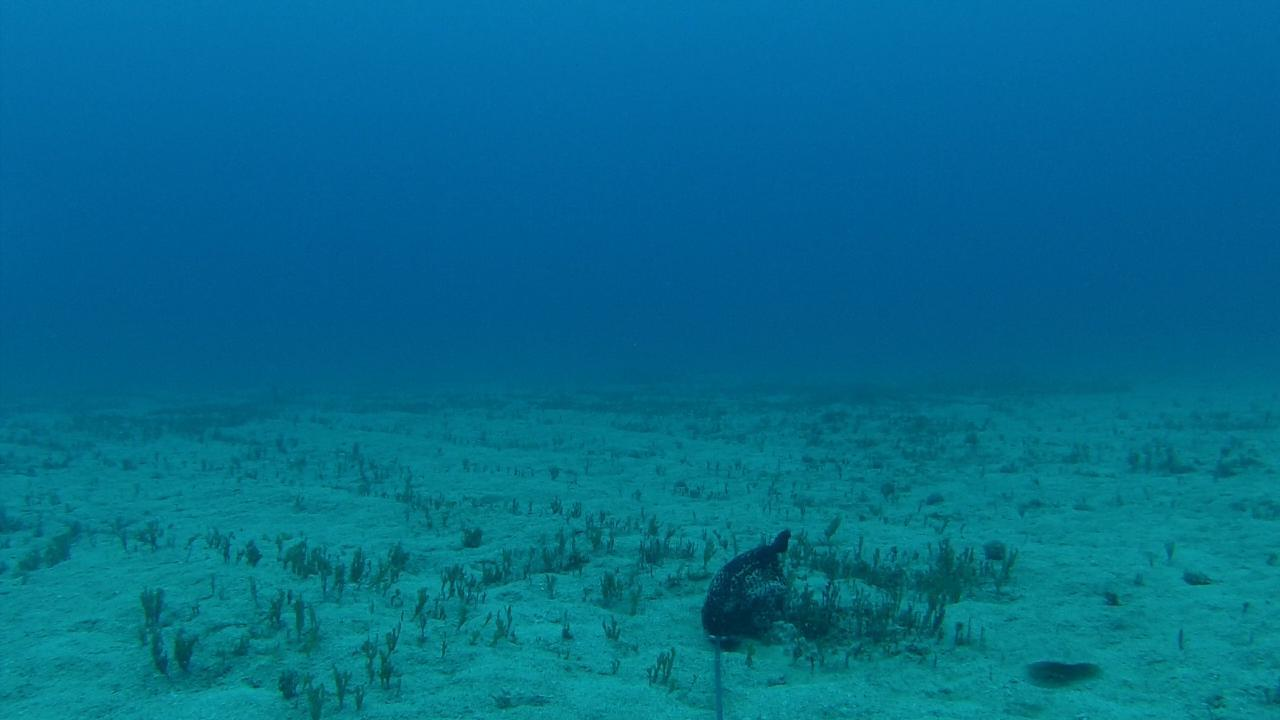bothus: (1023, 636, 1106, 673)
